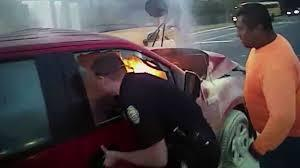fire: (113, 43, 185, 83)
